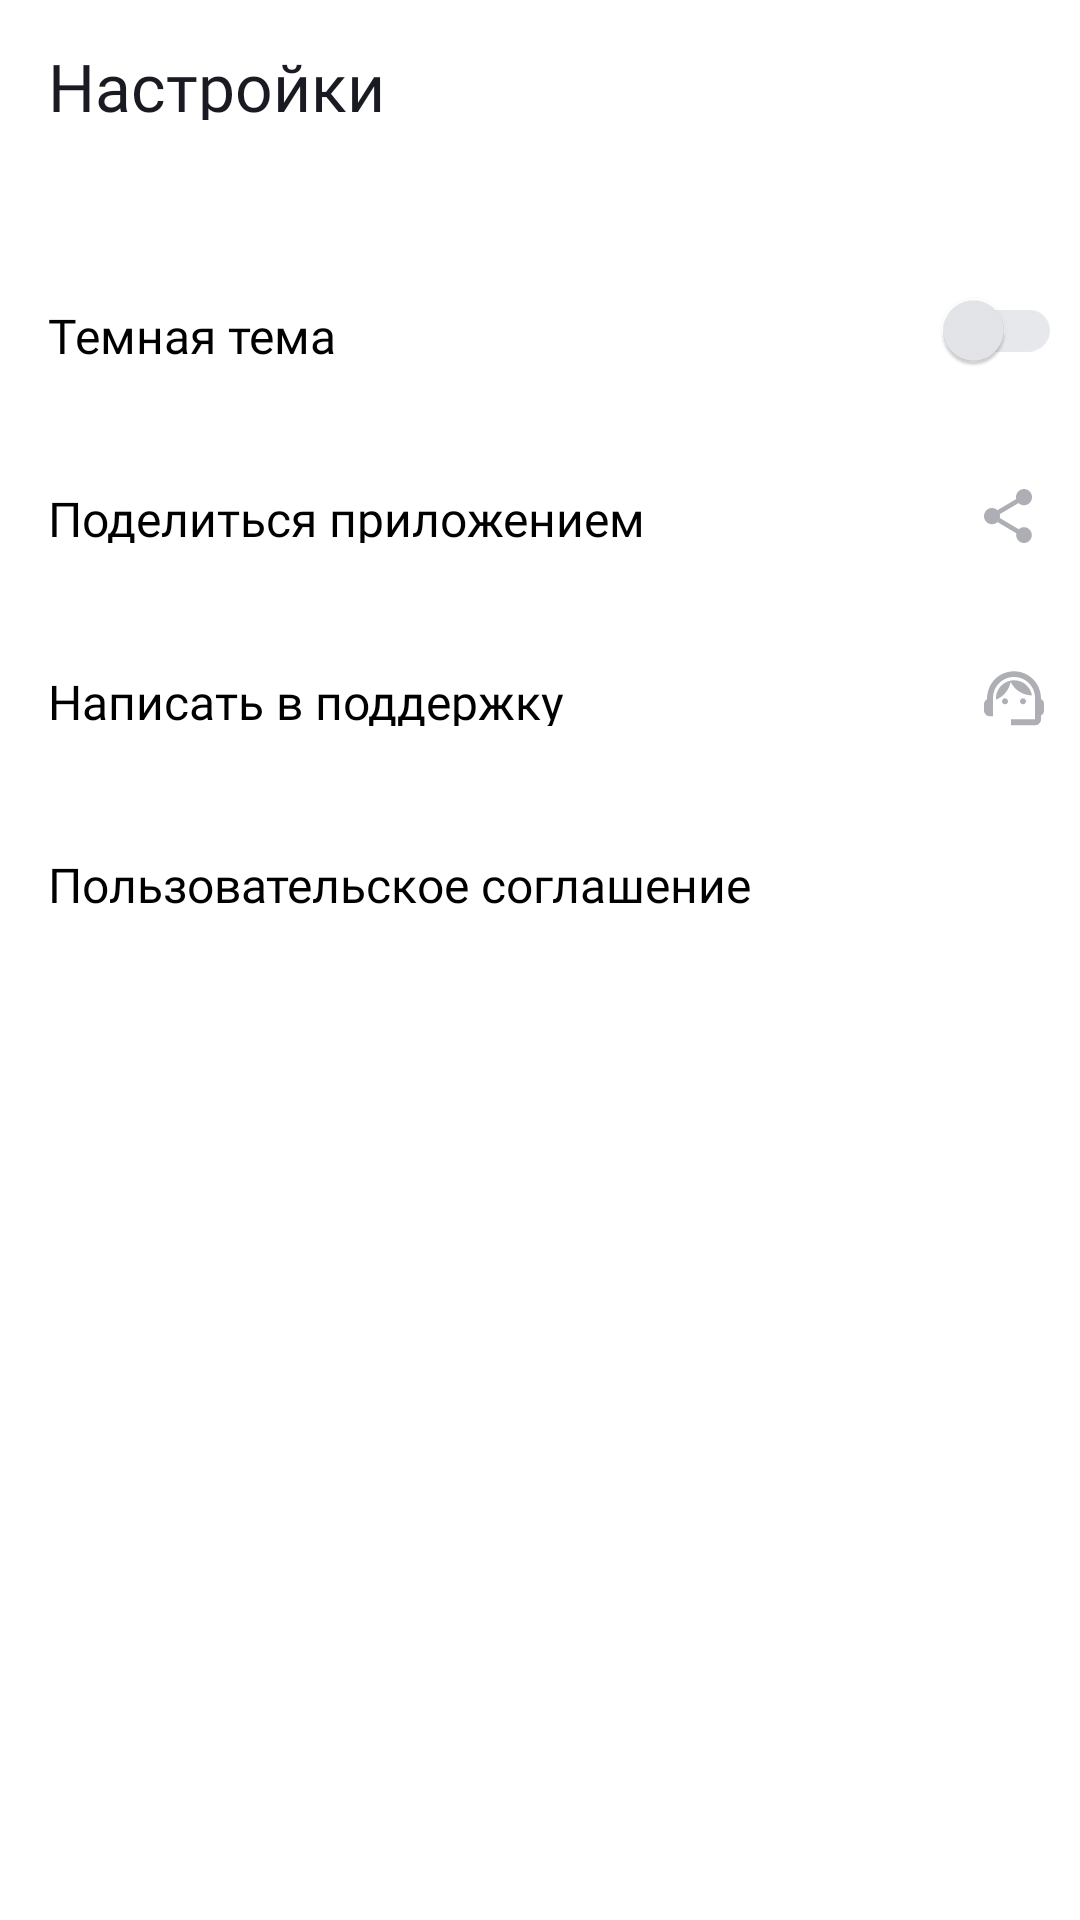

Screen size 1080px×1920px. Icon name, then its center in pixels as point (x, y):
share: point (1008, 516)
support: point (1014, 698)
